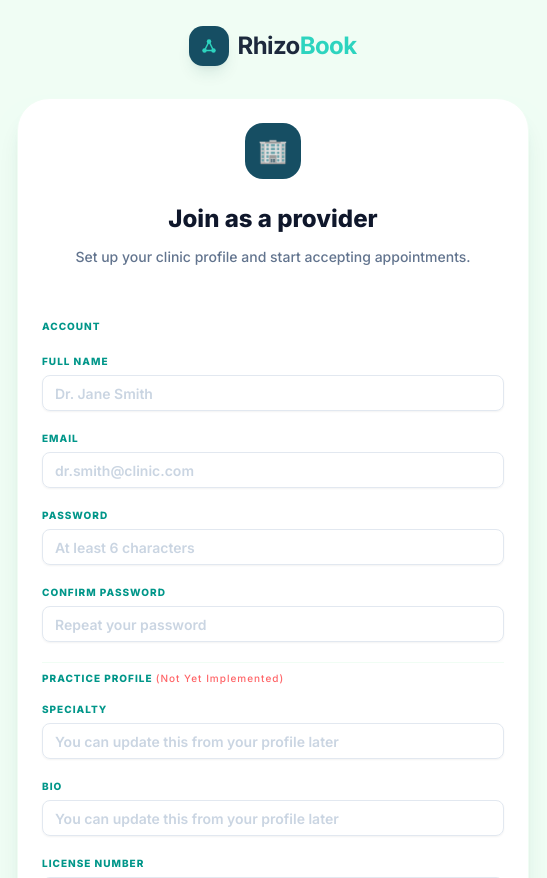
Test: ProviderRegisterPage › shows zod error when passwords do not match
The width and height of the screenshot is (547, 878).
Type "Dr. Smith" into the field labelled "Full Name".
click(273, 393); type("Dr. Smith")  # box [42, 375, 504, 411]
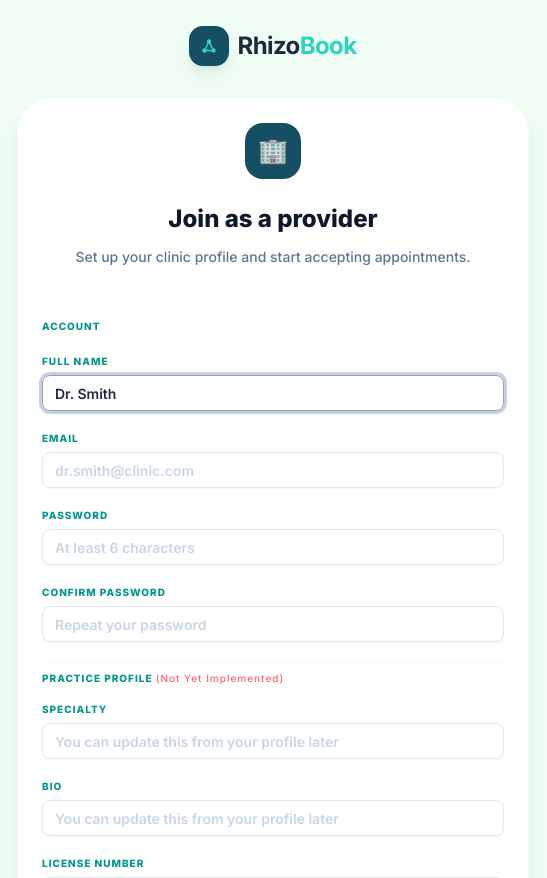
Type "dr@clinic.com" into the field labelled "Email".
click(273, 470); type("dr@clinic.com")  # box [42, 452, 504, 488]
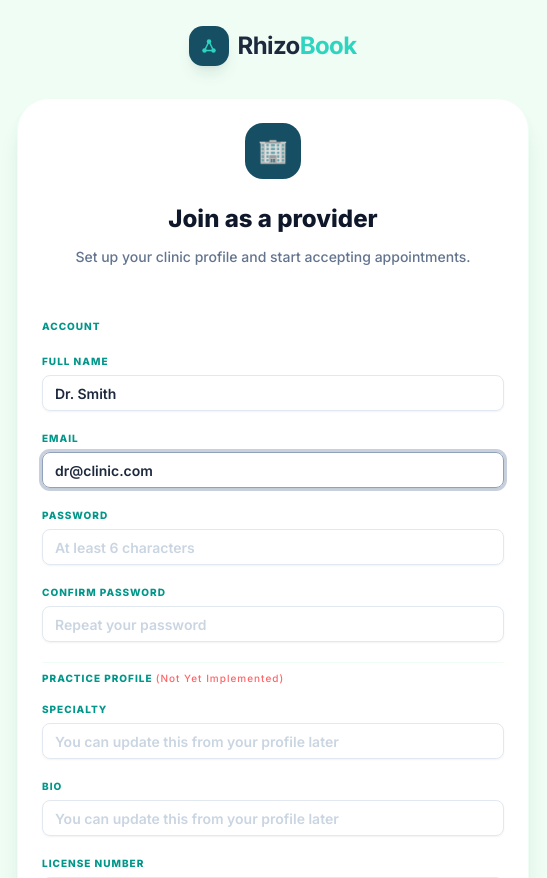
Type "password123" into the password field labelled "Password".
click(273, 547); type("password123")  # box [42, 529, 504, 565]
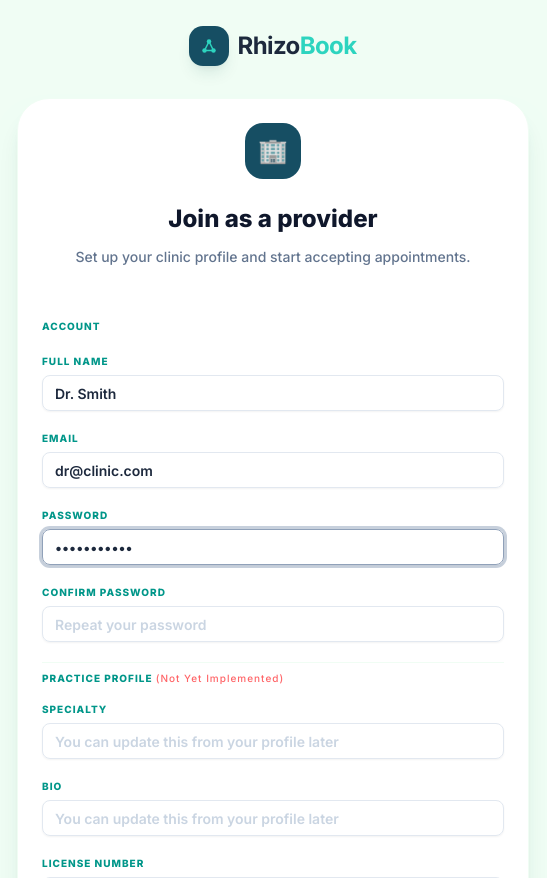
Type "different456" into the password field labelled "Confirm Password".
click(273, 624); type("different456")  # box [42, 606, 504, 642]
(page scrolled)
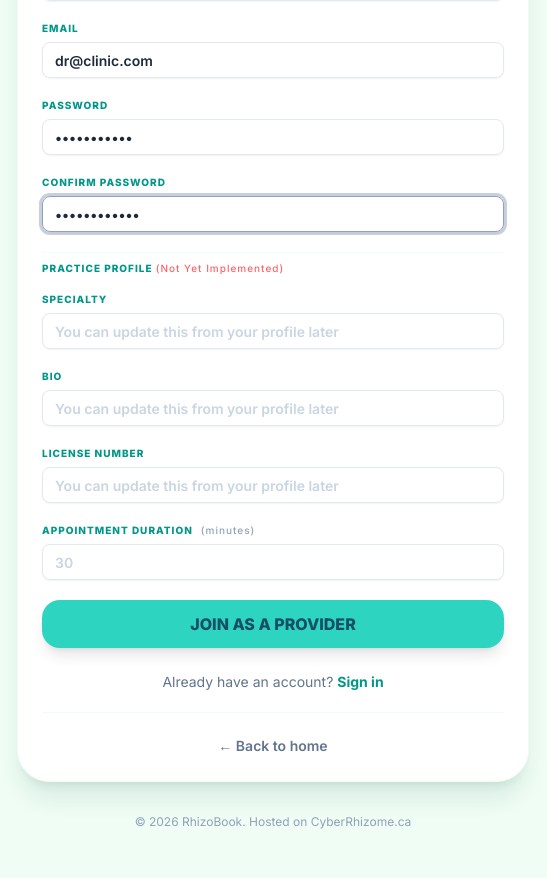
Click the button "JOIN AS A PROVIDER".
click(273, 624)  # box [42, 600, 504, 648]
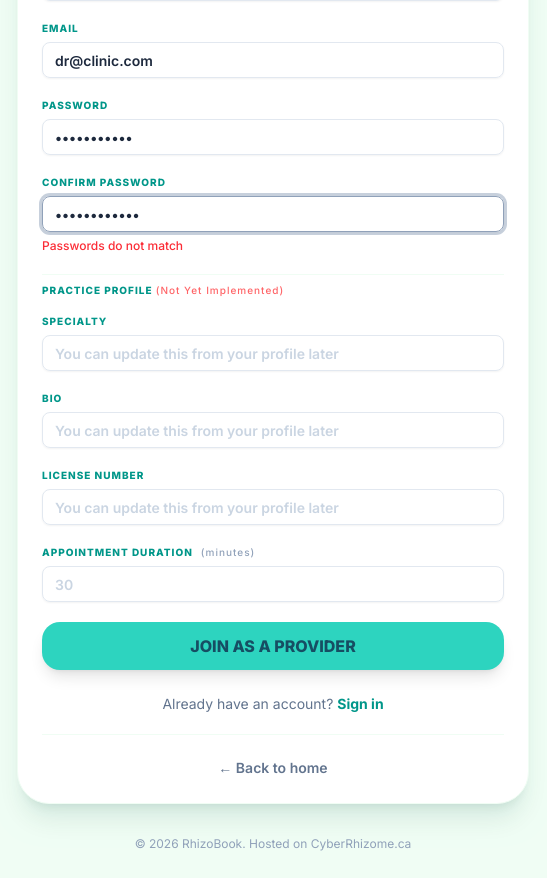
Result: the text "Passwords do not match" is shown at [42, 238, 183, 253]
